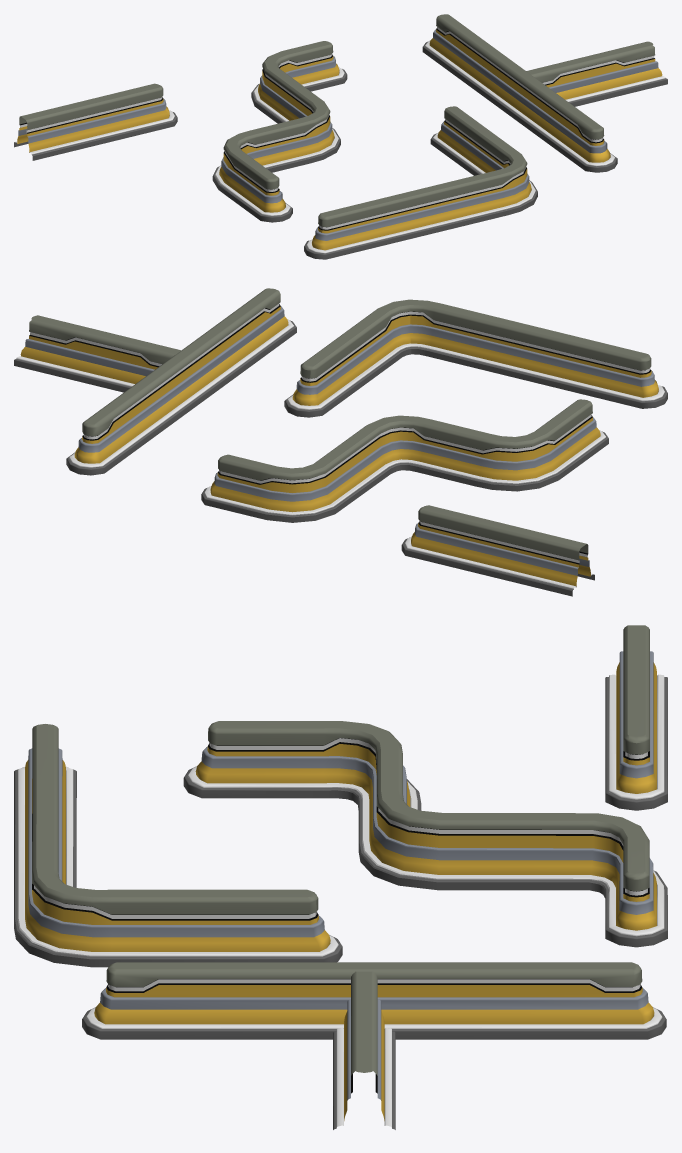
File: Level18_Small_walls.fbx
The picture shows the model from 3 angles, top to bottom: view 1: azimuth 30°, elevation 25°; view 2: azimuth 150°, elevation 25°; view 3: azimuth 270°, elevation 25°; orthographic projection. The views are drawn at different scales.
Visible parts, largest first — view 1: Small_wall_L45, Small_wall_, Small_wallv1_18, Small_wall_L6, Small_wallv1_4; view 2: Small_wall_, Small_wall_L45, Small_wallv1_18, Small_wall_L6, Small_wallv1_4; view 3: Small_wall_, Small_wallv1_18, Small_wall_L45, Small_wall_L6, Small_wallv1_4.
Part boxes in pixels (left/top/right/bottom): Small_wall_L45: left=304, top=106, right=537, bottom=259; Small_wall_: left=212, top=41, right=347, bottom=222; Small_wallv1_18: left=422, top=14, right=617, bottom=172; Small_wall_L6: left=14, top=83, right=177, bottom=160; Small_wallv1_4: left=526, top=41, right=667, bottom=106; Small_wall_: left=201, top=399, right=608, bottom=522; Small_wall_L45: left=284, top=299, right=667, bottom=417; Small_wallv1_18: left=66, top=288, right=296, bottom=475; Small_wall_L6: left=401, top=505, right=594, bottom=596; Small_wallv1_4: left=14, top=315, right=181, bottom=392; Small_wall_: left=183, top=721, right=667, bottom=947; Small_wallv1_18: left=82, top=962, right=666, bottom=1039; Small_wall_L45: left=14, top=724, right=342, bottom=967; Small_wall_L6: left=605, top=625, right=667, bottom=810; Small_wallv1_4: left=333, top=971, right=395, bottom=1129.
Size of the model in its own units: 590 by 38.67 by 359.
